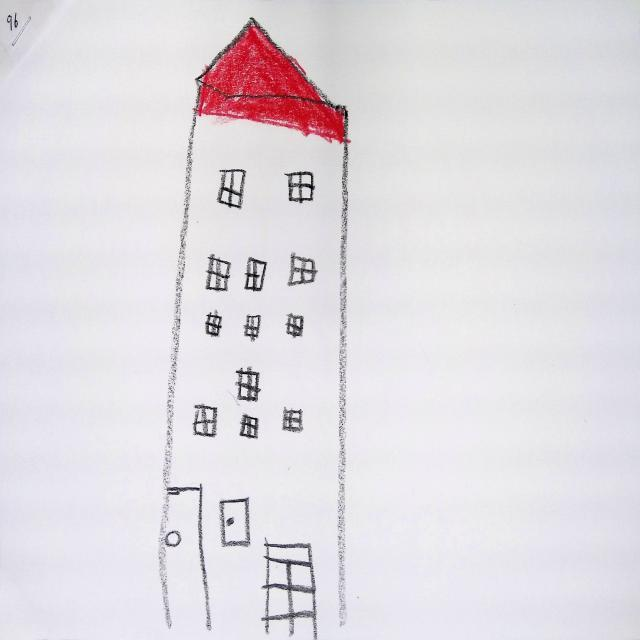door: (157, 487, 211, 640), (261, 541, 318, 640), (222, 500, 249, 546)
house: (159, 18, 348, 640)
roof: (198, 18, 345, 141)
wall: (160, 116, 342, 640)
window: (217, 170, 246, 208), (288, 253, 318, 284), (206, 254, 231, 291), (286, 171, 314, 203), (236, 368, 260, 402), (245, 257, 267, 291), (194, 406, 217, 438), (283, 408, 304, 432), (244, 315, 261, 342), (240, 415, 259, 438), (206, 311, 222, 337), (287, 316, 304, 338)
